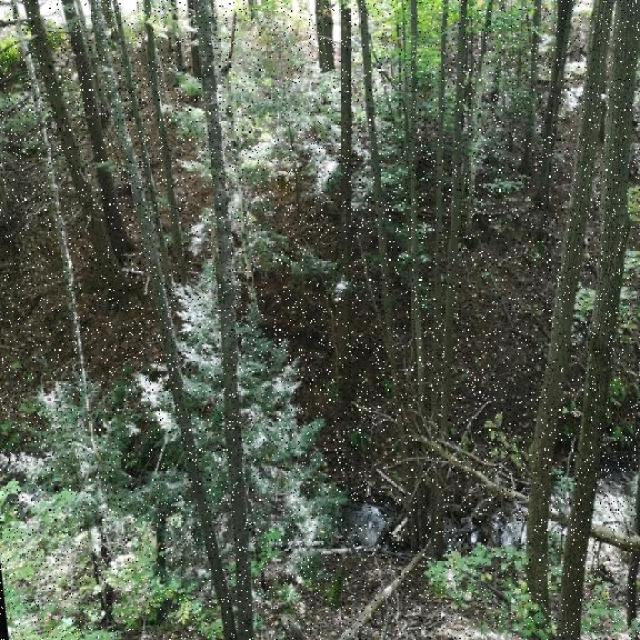fallen_object: (341, 350, 640, 628), (167, 515, 466, 640)
